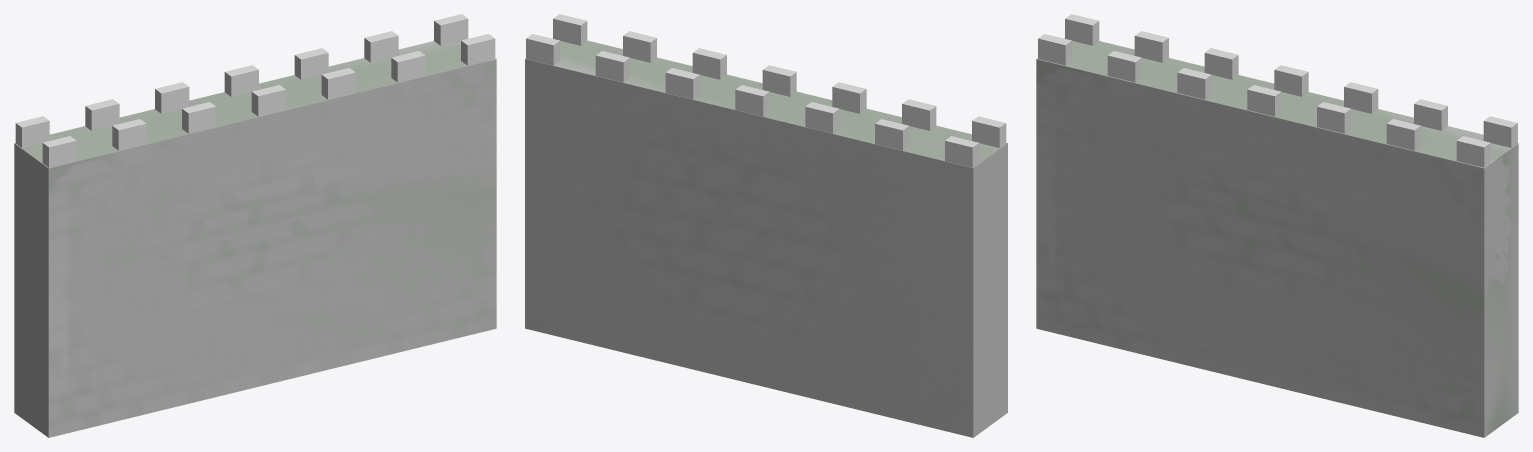
File: muro.glb
3 renders of one model, left to right at view 1: azimuth 30°, elevation 25°; view 2: azimuth 150°, elevation 25°; view 3: azimuth 330°, elevation 25°, orthographic.
Visible parts, largest first — view 1: Cube, Cube.001, Cube.002; view 2: Cube, Cube.002, Cube.001; view 3: Cube, Cube.001, Cube.002.
Part boxes in pixels (left/top/right/bottom): Cube: left=14, top=41, right=496, bottom=437; Cube.001: left=42, top=34, right=495, bottom=167; Cube.002: left=15, top=14, right=468, bottom=147; Cube: left=525, top=40, right=1007, bottom=437; Cube.002: left=526, top=34, right=979, bottom=167; Cube.001: left=553, top=14, right=1006, bottom=147; Cube: left=1036, top=38, right=1518, bottom=437; Cube.001: left=1038, top=34, right=1490, bottom=167; Cube.002: left=1065, top=14, right=1517, bottom=147.
Size of the model in its own units: 5.62 by 3.47 by 0.7487.
1 material, 1 textured.
